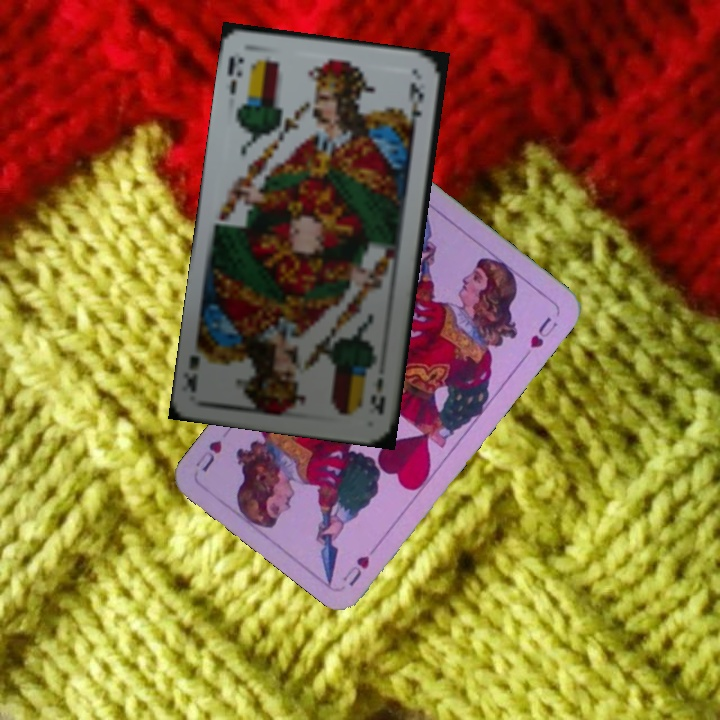EK: (223, 51, 247, 98), (367, 372, 389, 417)
HU: (338, 539, 382, 589)
